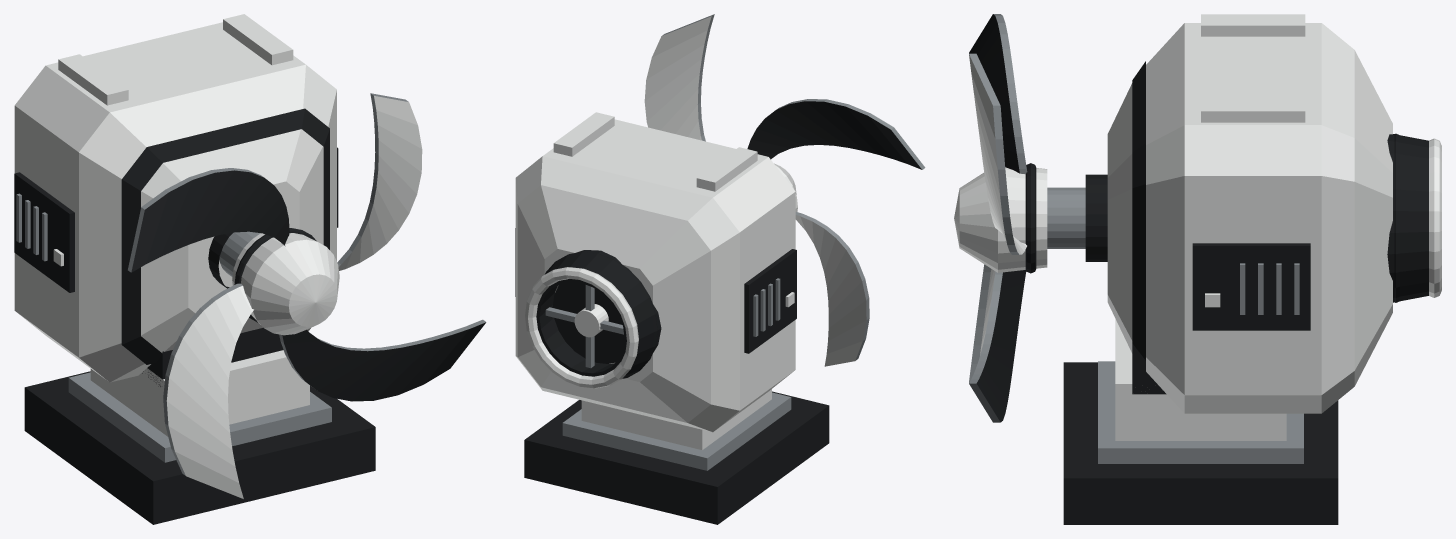
File: turbine_complete.obj
The picture shows the model from 3 angles, left to right: view 1: azimuth 30°, elevation 25°; view 2: azimuth 150°, elevation 25°; view 3: azimuth 270°, elevation 25°; orthographic projection. The views are drawn at different scales.
Size of the model in its own units: 0.7982 by 0.8991 by 0.889.
